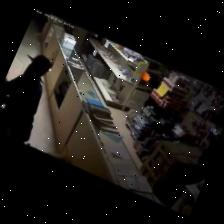person: (0, 55, 50, 143)
